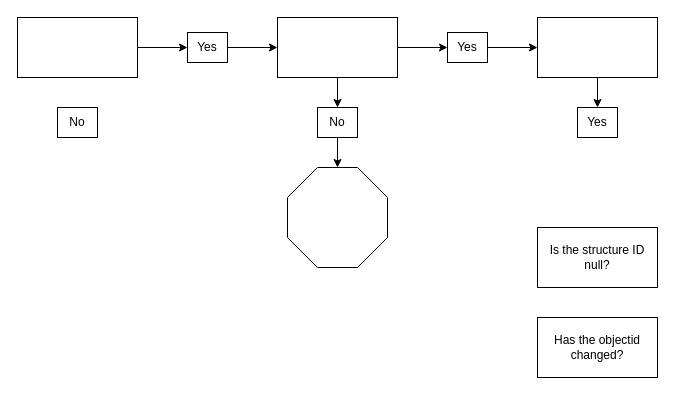
Some shapes in this 675 by 395 pixel diagram are drawn without their labels. Here are the shapes that lost their labels. From the top down, the centre of each, then its label:
(77,47): Does the structure ID match between ParksGIS and structuresdb?
(337,47): Is the attribute information or geometry different?
(597,47): Is the structure ID a duplicate?
(337,217): No Transaction Required
